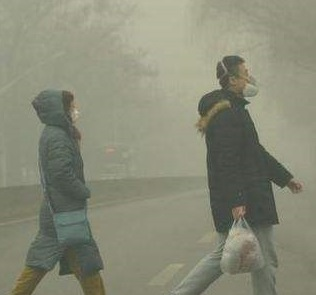person: (171, 53, 305, 295), (9, 87, 113, 295)
